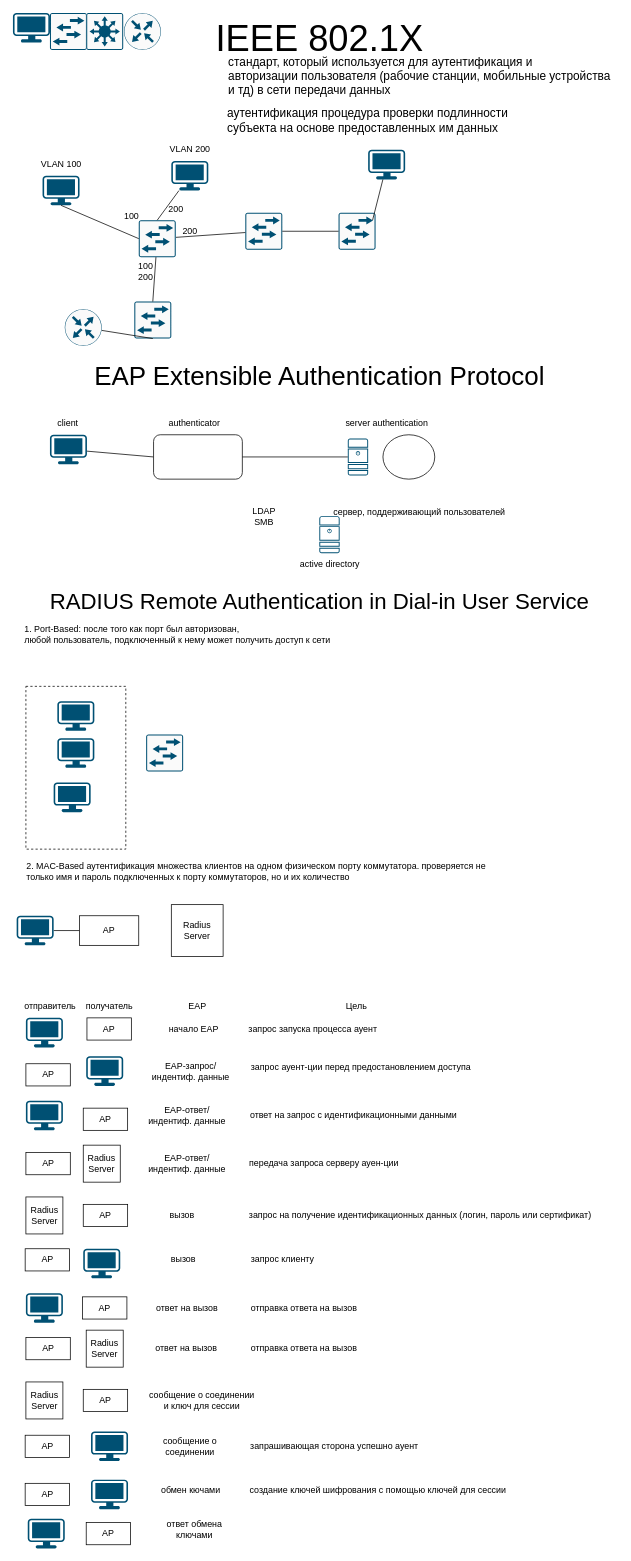
The diagram is 631 pixels wide and 1561 high, and some of its shapes have lost their labels. The shapes that lost their labels are listed below. From the top down, each one's box as (x1, y1, x2, y2) in pixels, then its label:
(153, 434, 242, 479): switch или точка доступа
(382, 434, 435, 479): база данных
